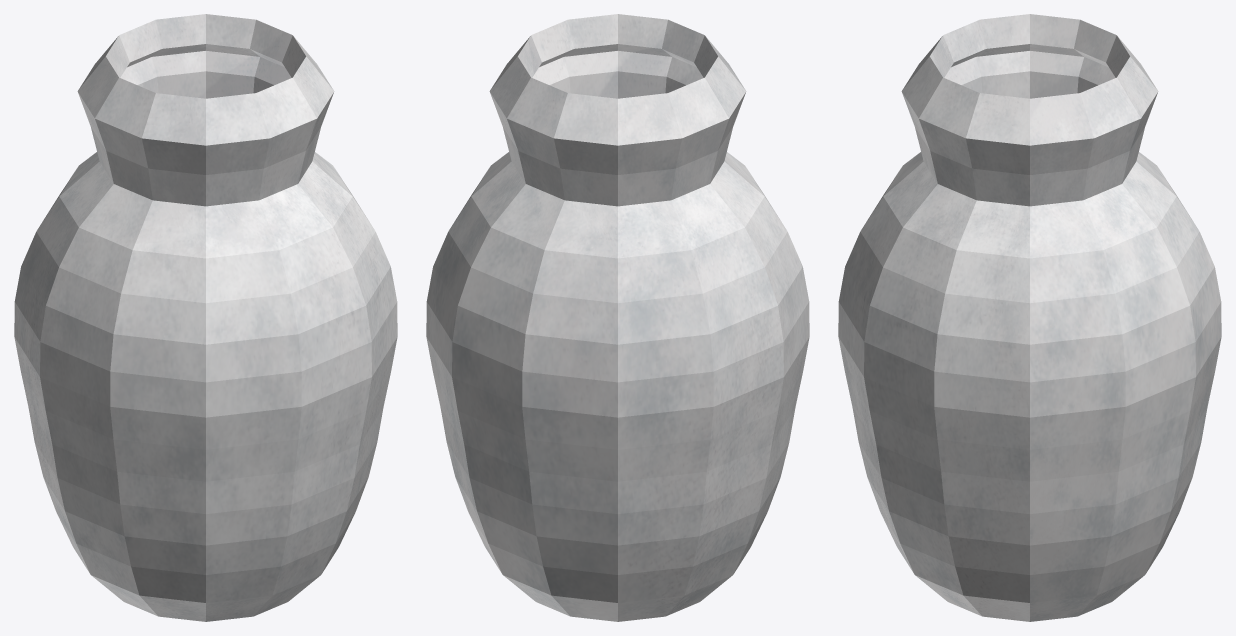
File: vasetrain.fbx
3 views of the same model, side by side, from view 1: azimuth 30°, elevation 25°; view 2: azimuth 150°, elevation 25°; view 3: azimuth 270°, elevation 25° (orthographic).
Visible parts, largest first — view 1: Cylinder; view 2: Cylinder; view 3: Cylinder.
Boxes of the visible parts, bbox=[...] form: Cylinder: bbox=[14, 14, 397, 621]; Cylinder: bbox=[426, 14, 809, 621]; Cylinder: bbox=[838, 14, 1221, 621].
Bounding box in the file's own units: 228 × 345 × 228.
1 material, 1 textured.
